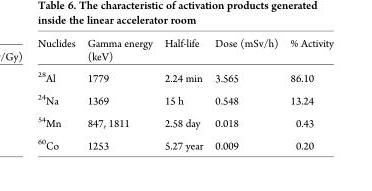table: (37, 36, 332, 151)
table column: (80, 36, 157, 151), (208, 36, 283, 151), (157, 36, 208, 151), (283, 36, 332, 151), (37, 36, 80, 151)
table column header: (37, 36, 332, 66)
table row: (37, 36, 332, 66), (37, 110, 332, 133), (37, 66, 332, 88), (37, 88, 332, 110), (37, 133, 332, 151)
